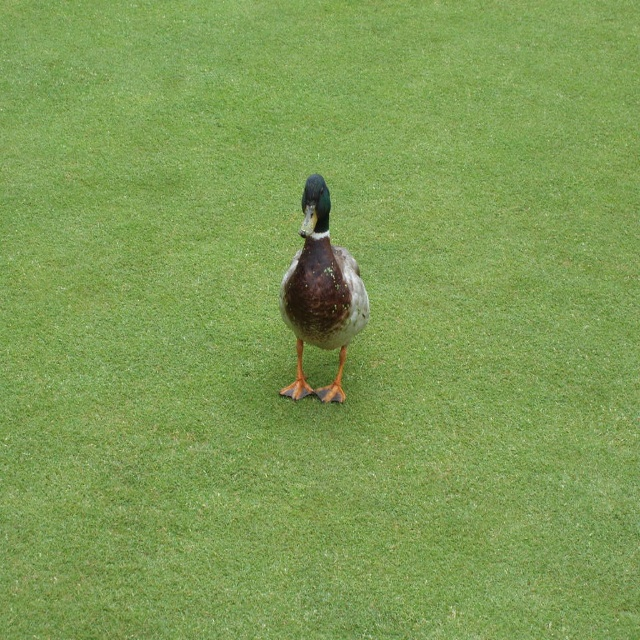Duck: (276, 179, 375, 401)
